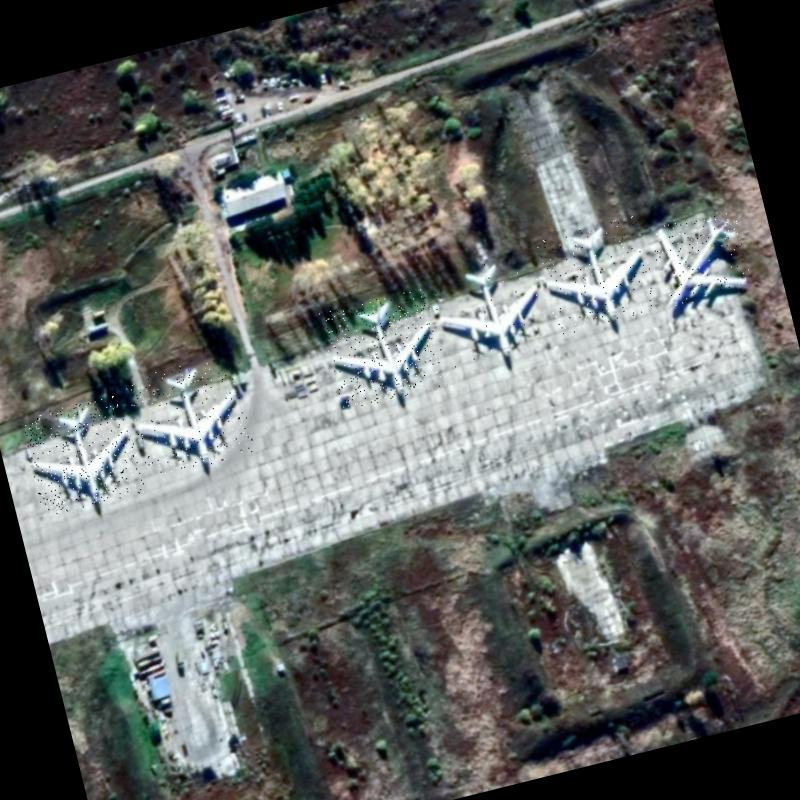A17: (123, 353, 256, 480), (318, 286, 450, 412), (18, 392, 146, 516), (534, 214, 660, 336), (428, 252, 554, 371), (648, 206, 754, 310)
